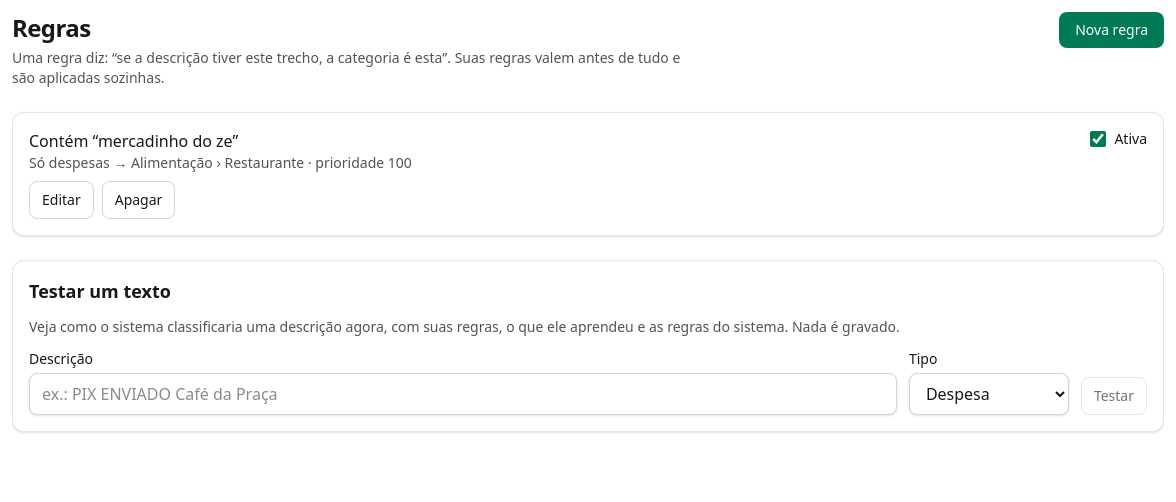
Test: RulesView › testar um texto mostra categoria e contexto com origem, confiança e o que aconteceria
The width and height of the screenshot is (1176, 502).
Type "PIX ENVIADO Café da Praça" into the field labelled "Descrição".
click(463, 394); type("PIX ENVIADO Café da Praça")  # box x1=29 y1=373 x2=897 y2=415
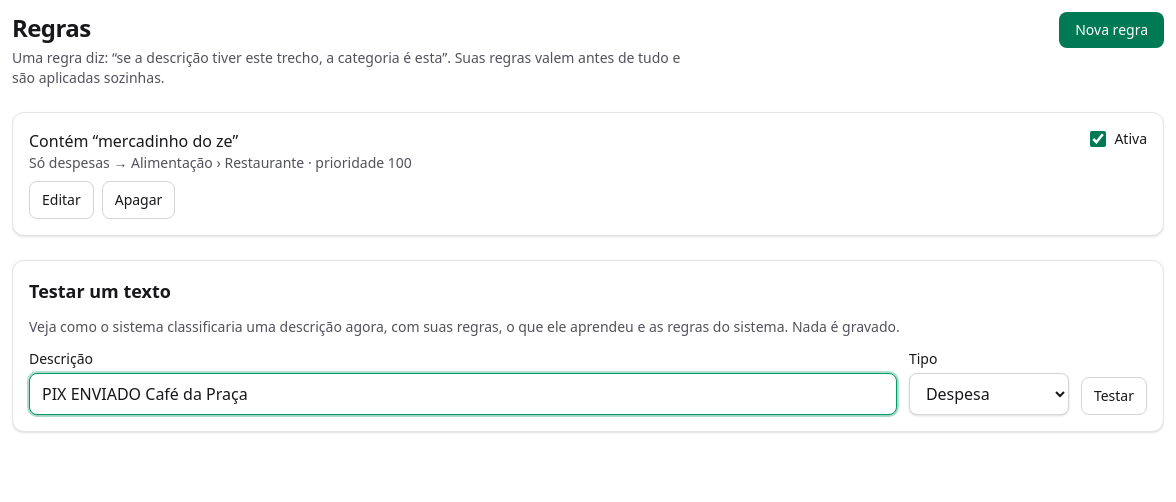
Select "Despesa" in the dropdown labelled "Tipo" at (989, 394), box x1=909 y1=373 x2=1069 y2=415
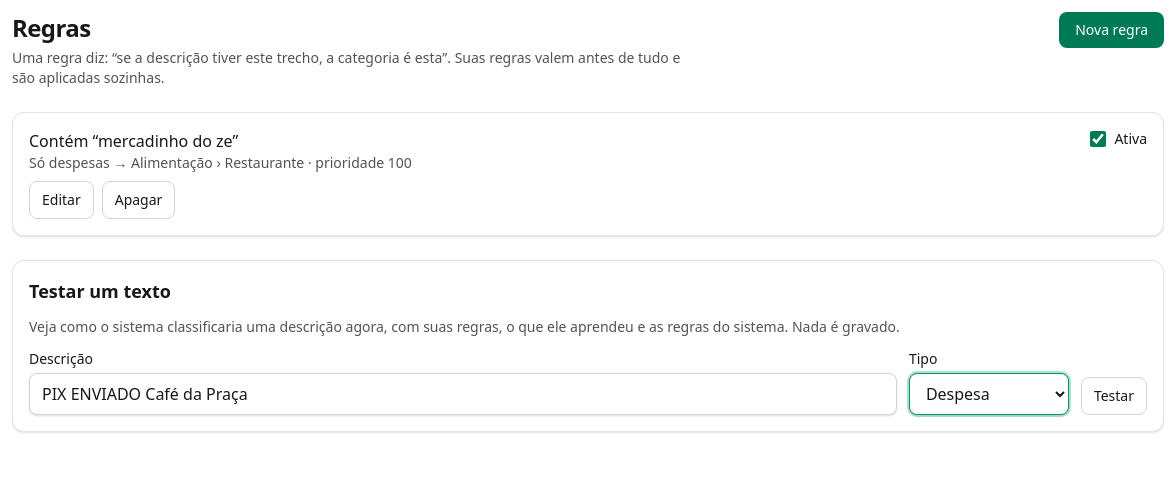
Click the button "Testar".
click(1114, 396)  # box x1=1081 y1=377 x2=1147 y2=415
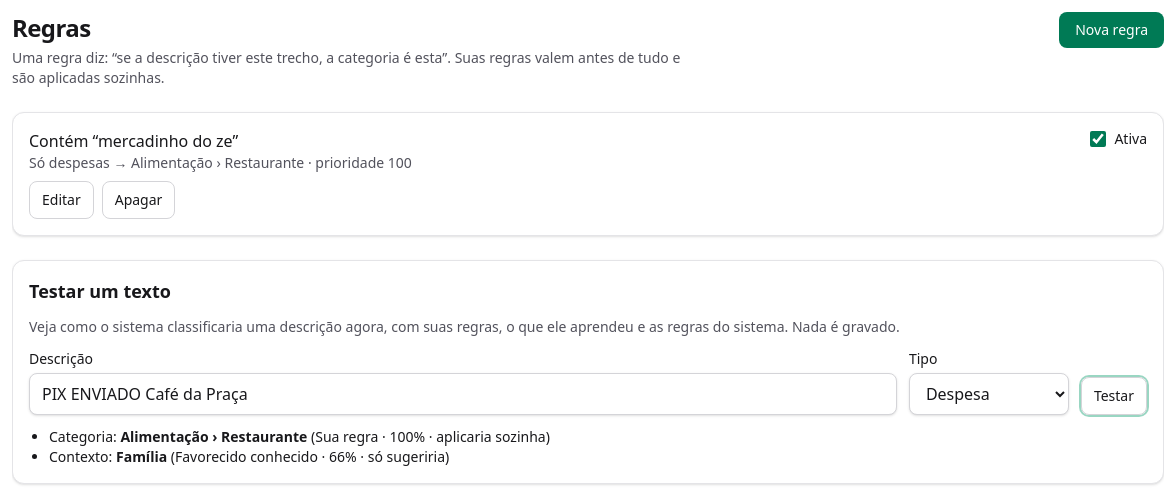
Expected: the message shows "Categoria: Alimentação › Restaurante (Sua regra · 100% · aplicaria sozinha)", x1=49 y1=427 x2=550 y2=466
Expected: the message shows "Contexto: Família (Favorecido conhecido · 66% · só sugeriria)", x1=49 y1=427 x2=550 y2=466
